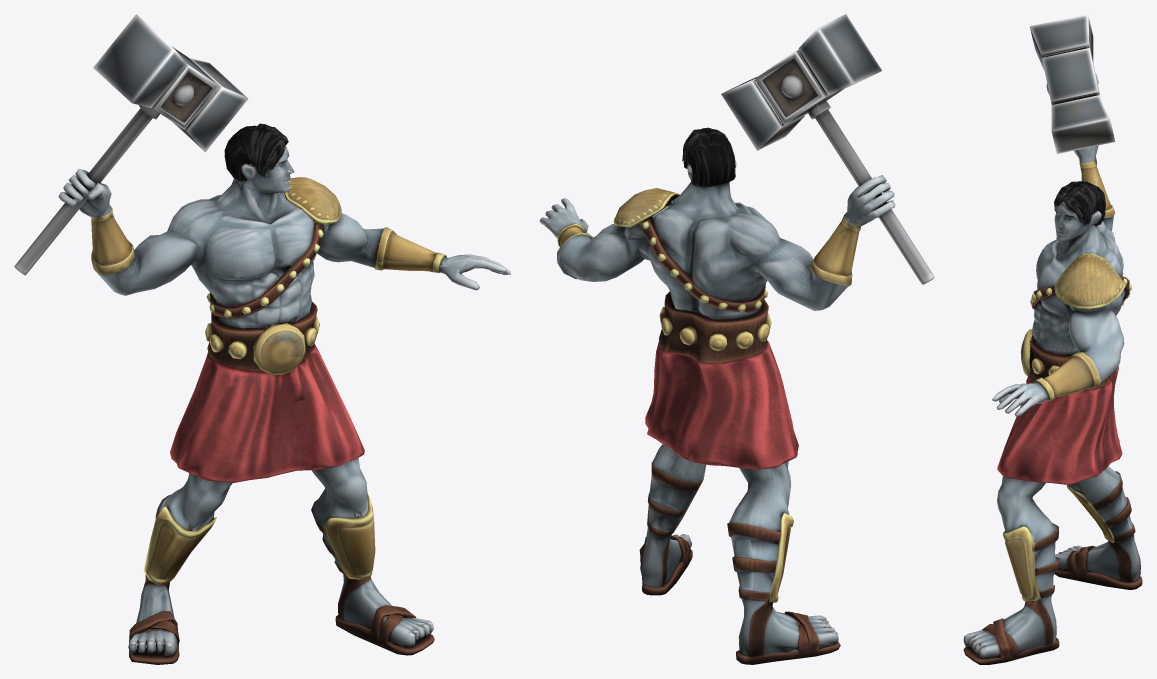
The model's file is MZ4250 - Empyrean.glb.
3 renders of one model, left to right at view 1: azimuth 30°, elevation 25°; view 2: azimuth 150°, elevation 25°; view 3: azimuth 270°, elevation 25°, orthographic. The views are drawn at different scales.
Parts seen in each view (by area): view 1: body_low.001, hammer_low.001; view 2: body_low.001, hammer_low.001; view 3: body_low.001, hammer_low.001.
Boxes of the visible parts, bbox=[...] form: body_low.001: bbox=[58, 123, 510, 664]; hammer_low.001: bbox=[14, 14, 248, 275]; body_low.001: bbox=[539, 127, 895, 664]; hammer_low.001: bbox=[721, 14, 934, 284]; body_low.001: bbox=[963, 145, 1142, 664]; hammer_low.001: bbox=[1029, 14, 1115, 165].
Bounding box in the file's own units: 4.34 × 5.97 × 1.75.
Materials: 1 (1 with a texture image).
